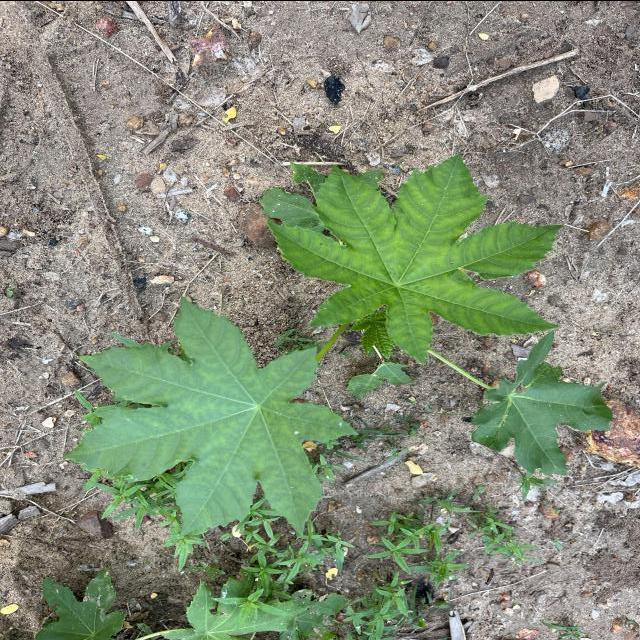Ricinus communis linn: (60, 291, 362, 539), (262, 148, 570, 366)
